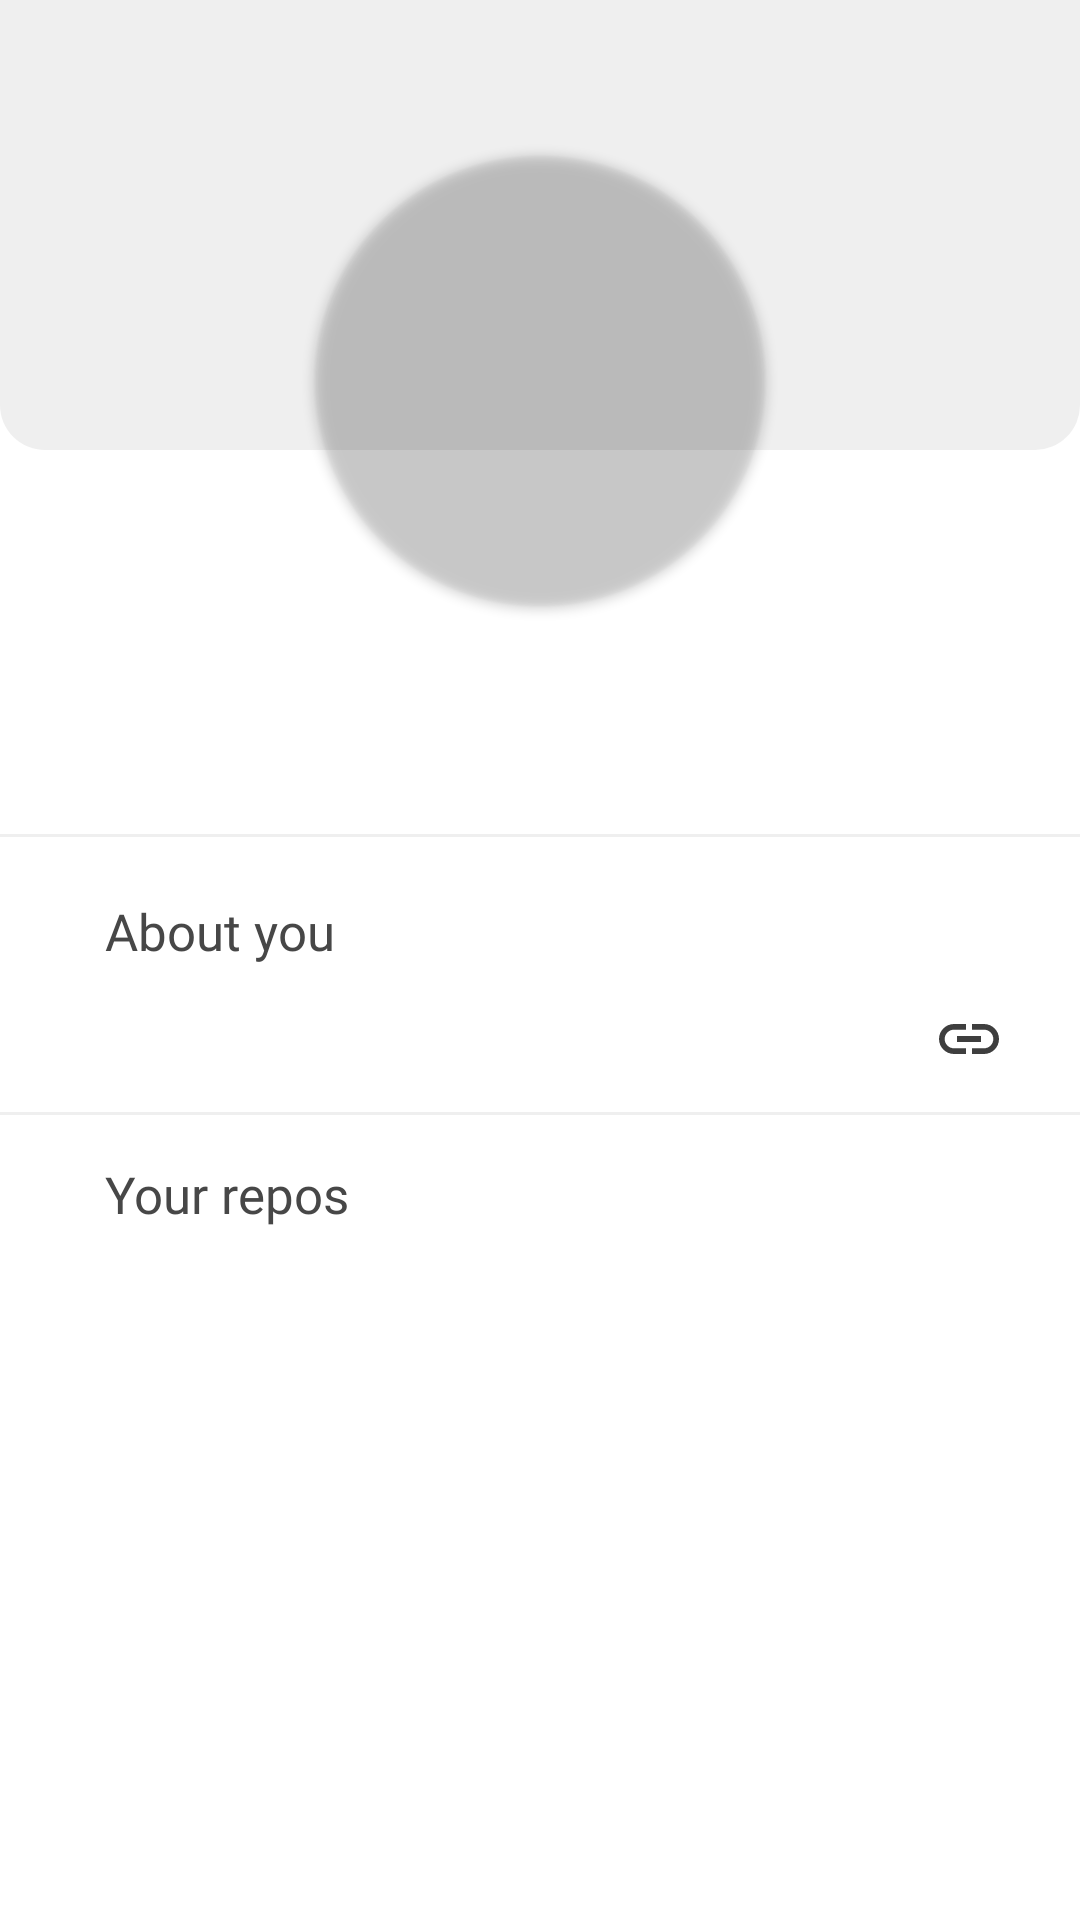

Screen size 1080*1920. Icon name, then its center in pixels as (x,y):
link: (969,1039)
